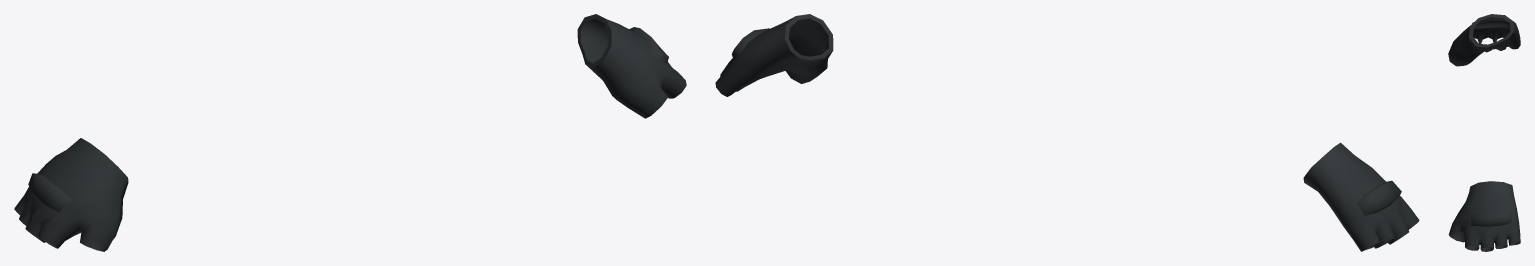
The model's file is Gloves_06.glb.
3 views of the same model, side by side, from view 1: azimuth 30°, elevation 25°; view 2: azimuth 150°, elevation 25°; view 3: azimuth 270°, elevation 25° (orthographic). The views are drawn at different scales.
Parts seen in each view (by area): view 1: Gloves_06; view 2: Gloves_06; view 3: Gloves_06.
Boxes of the visible parts, box(x1,y1,x2,y2) form: Gloves_06: box(14, 14, 686, 251); Gloves_06: box(715, 14, 1419, 251); Gloves_06: box(1448, 14, 1520, 251).
Bounding box in the file's own units: 0.8035 × 0.1025 × 0.1174.
1 material, 1 textured.
